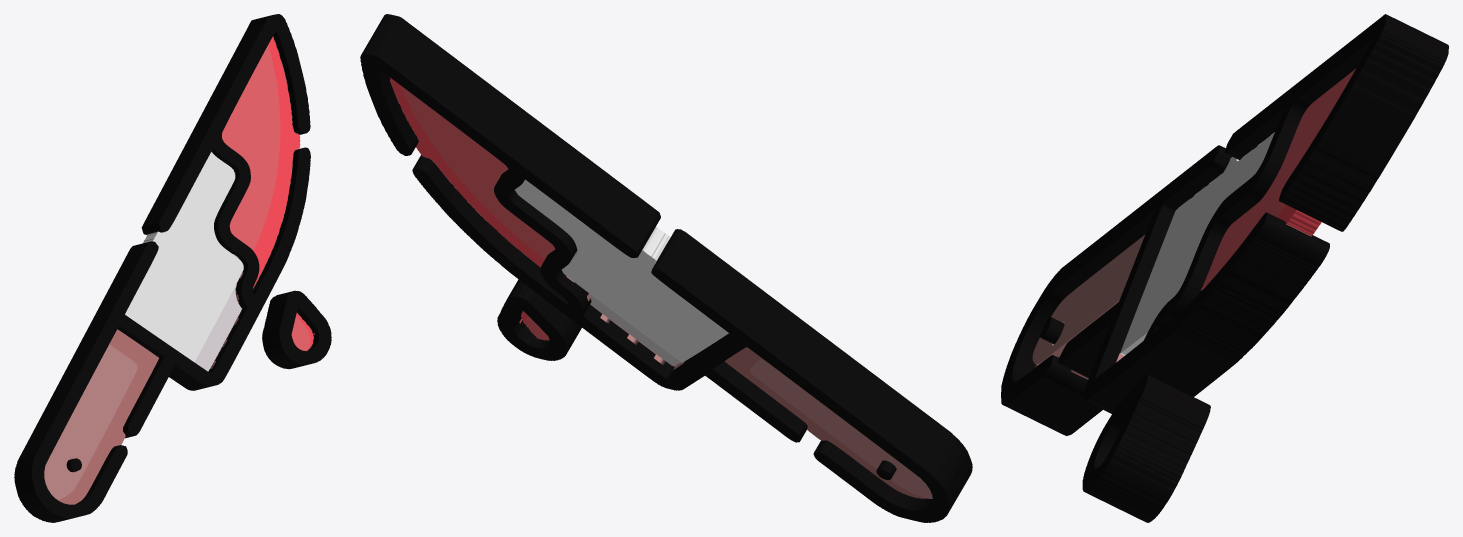
File: Thriller.gltf
3 renders of one model, left to right at view 1: azimuth 30°, elevation 25°; view 2: azimuth 150°, elevation 25°; view 3: azimuth 270°, elevation 25°, orthographic. The views are drawn at different scales.
Parts seen in each view (by area): view 1: path0, path1, path2, path3, path5, path4, path6; view 2: path0, path1, path2, path3, path4, path5, path6; view 3: path0, path1, path3, path2, path4.
Part boxes in pixels (x1,y1,x2,y2): path0: [14, 14, 331, 522]; path1: [125, 152, 243, 361]; path2: [222, 45, 314, 350]; path3: [44, 172, 243, 499]; path5: [58, 36, 313, 504]; path4: [253, 37, 313, 348]; path6: [162, 232, 241, 371]; path0: [360, 14, 972, 522]; path1: [515, 179, 728, 362]; path2: [401, 86, 555, 340]; path3: [514, 190, 932, 498]; path4: [389, 77, 546, 326]; path5: [390, 80, 926, 498]; path6: [575, 244, 680, 365]; path0: [1001, 14, 1448, 522]; path1: [1120, 133, 1274, 355]; path3: [1032, 132, 1274, 364]; path2: [1201, 69, 1355, 290]; path4: [1277, 204, 1321, 236].
Size of the model in its own units: 0.103 by 0.1039 by 0.0625.
